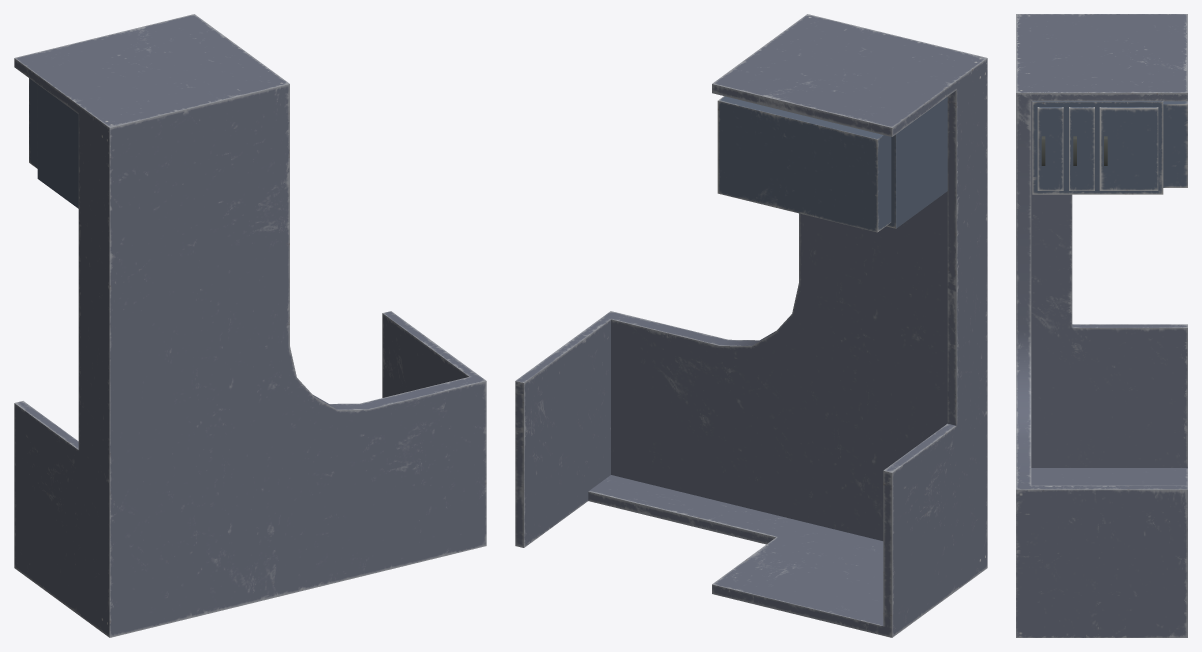
The model's file is desk1.fbx.
3 views of the same model, side by side, from view 1: azimuth 30°, elevation 25°; view 2: azimuth 150°, elevation 25°; view 3: azimuth 270°, elevation 25° (orthographic). The views are drawn at different scales.
Visible parts, largest first — view 1: Mesh_17, Mesh_2; view 2: Mesh_17, Mesh_2; view 3: Mesh_17, Mesh_2.
Part boxes in pixels (x1,y1,x2,y2): Mesh_17: (14, 14, 486, 637); Mesh_2: (29, 78, 78, 208); Mesh_17: (515, 14, 987, 637); Mesh_2: (717, 96, 947, 232); Mesh_17: (1016, 14, 1187, 637); Mesh_2: (1032, 101, 1187, 194).
Size of the model in its own units: 766 by 990 by 336.
